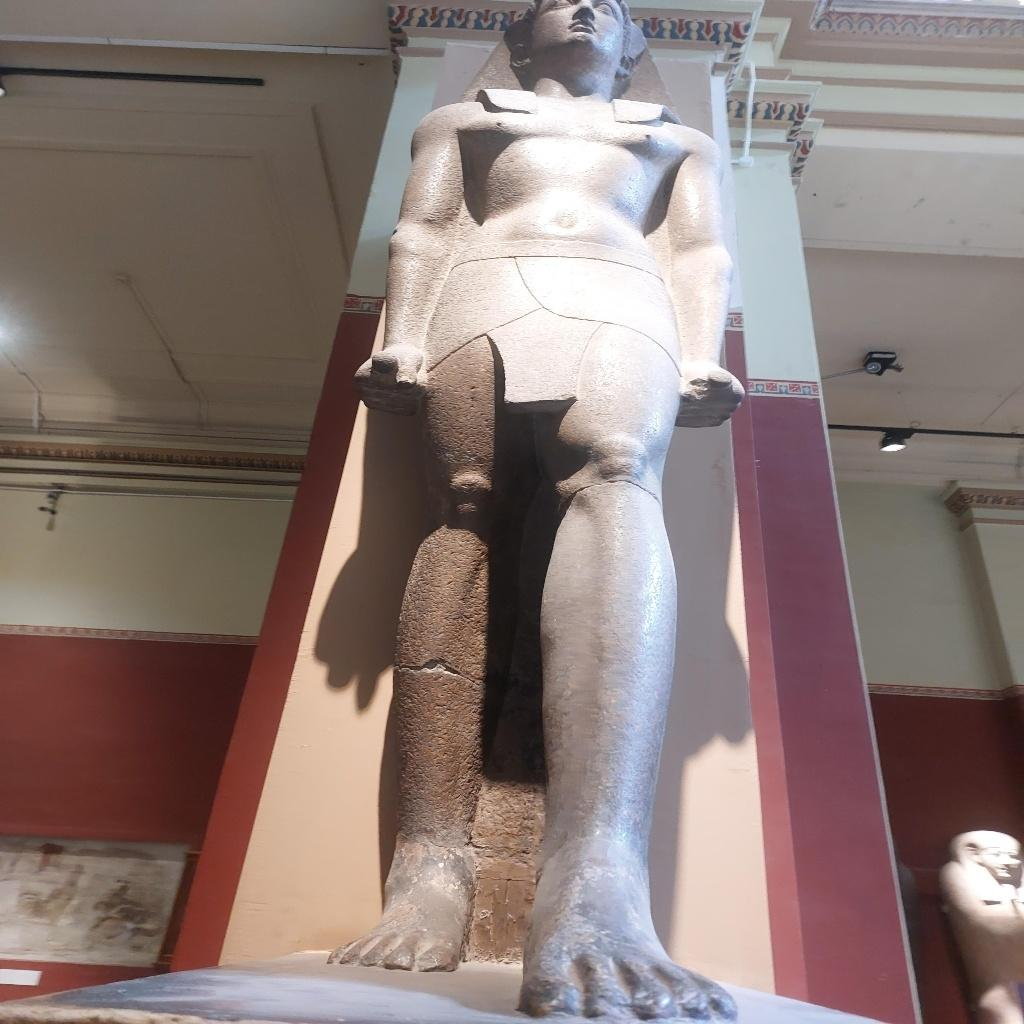Augustus: (326, 0, 748, 1022)
